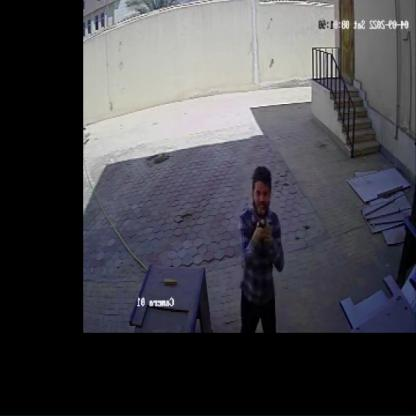handgun: (255, 201, 271, 243)
